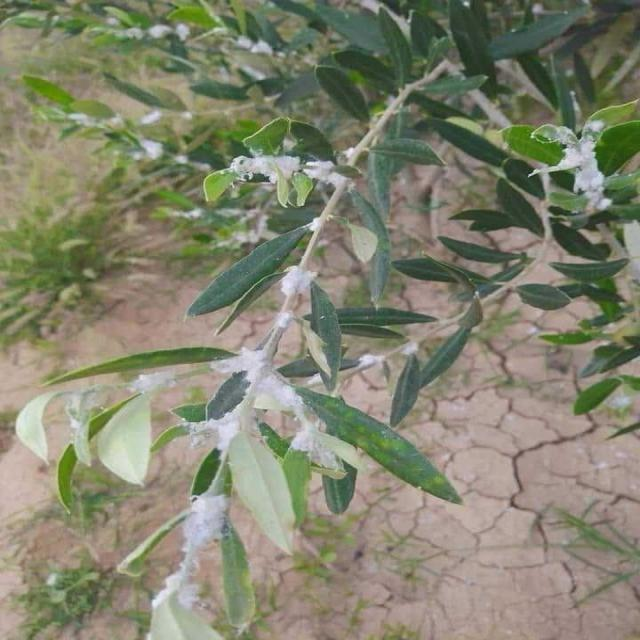Psyllid: (212, 341, 356, 478), (151, 480, 233, 611), (529, 119, 612, 218), (228, 155, 357, 193), (179, 406, 259, 461), (270, 265, 316, 336), (127, 361, 180, 394)
